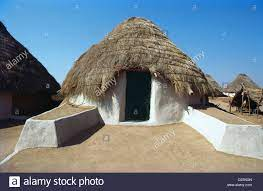Mud House: (35, 16, 232, 158)
